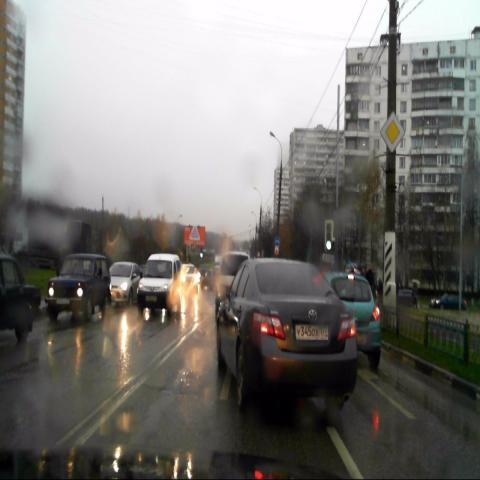2_1: (379, 113, 405, 153)
